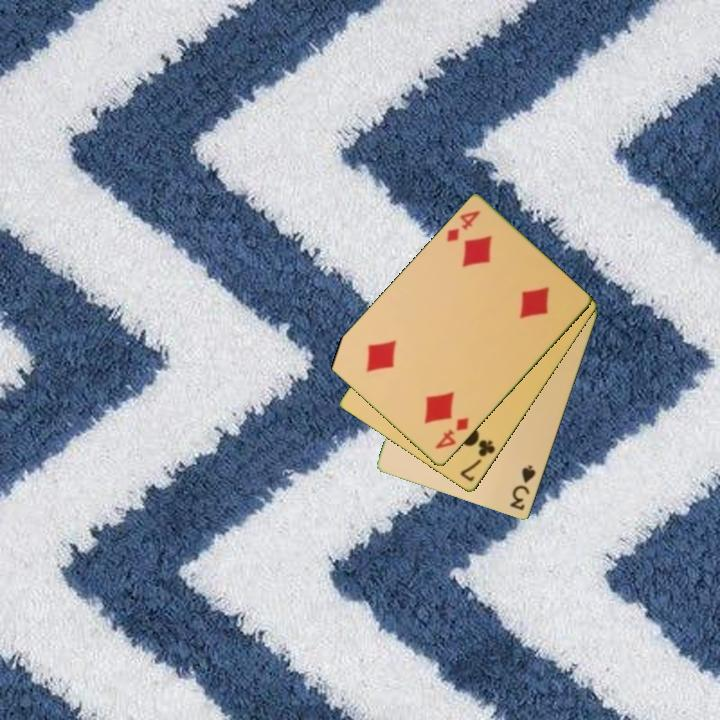3s: (507, 461, 539, 514)
4d: (431, 414, 472, 452), (443, 207, 484, 245)
7c: (457, 436, 498, 485)
